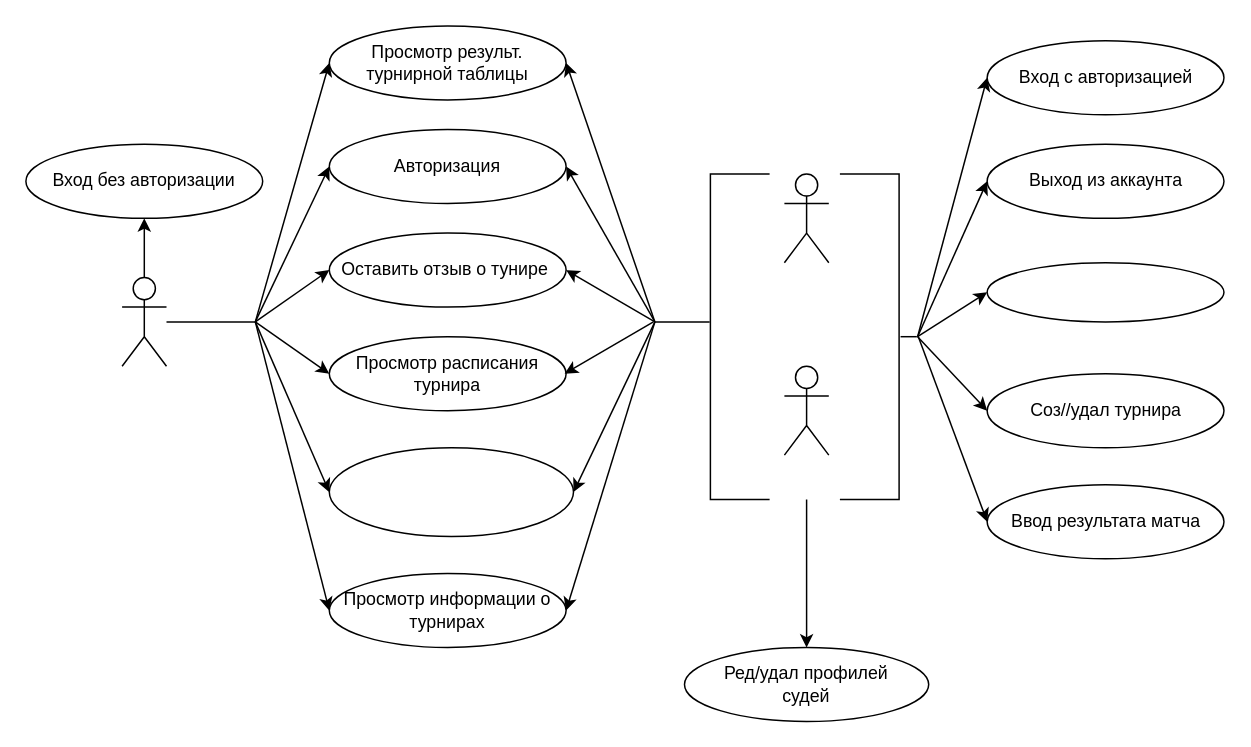
Some shapes in this 1251 by 747 pixel diagram are drawn without their labels. The shapes that lost their labels are listed below. From the top down, each one's centre as x and y in pixels, then its label:
At [806,217]: "Судья".
At [1105,291]: "Создание расписания тунира".
At [143,321]: "Гость".
At [806,410]: "Администратор".
At [451,491]: "Просмотр результ. матчей".
